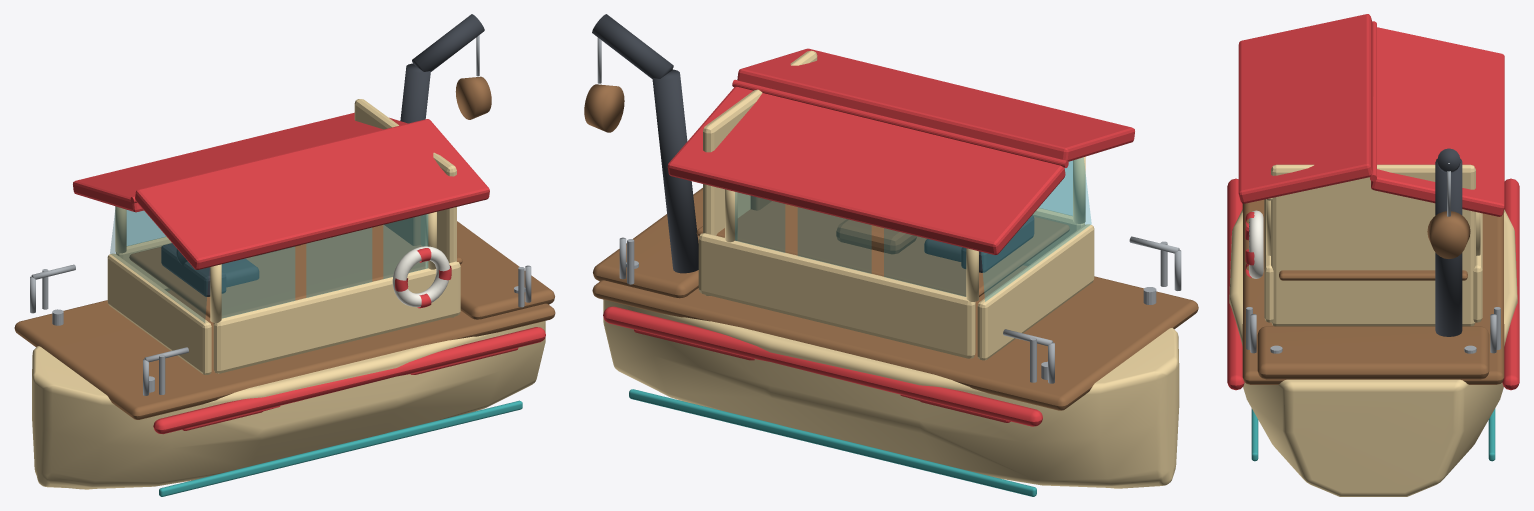
The model's file is boat-b.glb.
The picture shows the model from 3 angles, left to right: view 1: azimuth 30°, elevation 25°; view 2: azimuth 150°, elevation 25°; view 3: azimuth 270°, elevation 25°; orthographic projection. The views are drawn at different scales.
Visible parts, largest first — view 1: Cream faceted-curved displacement hull, Red roof left slope, Flat timber deck, Lower wheelhouse side wall, Visible interior floor, Red roof right slope, Low front wall, Red hull belt, Open timber stern deck, Transparent blue-green cabin side window, Transparent blue-green cabin side window.001, Turquoise waterline (+15 smaller); view 2: Cream faceted-curved displacement hull, Red roof right slope, Flat timber deck, Lower wheelhouse side wall.001, Red roof left slope, Visible interior floor, Low front wall, Red hull belt.001, Dark stern crane column, Turquoise waterline.001, Open timber stern deck, Transparent blue-green cabin side window.003 (+16 smaller); view 3: Cream faceted-curved displacement hull, Rear cream cabin bulkhead, Red roof left slope, Red roof right slope, Open timber stern deck, Flat timber deck, Dark stern crane column, Red hull belt.001, Red hull belt, Visible interior floor, Small hanging ochre cargo bucket, White side life ring (+6 smaller).
Boxes of the visible parts, <box> form: Cream faceted-curved displacement hull: <box>32,321,545,489</box>; Red roof left slope: <box>135,119,489,269</box>; Flat timber deck: <box>14,290,555,419</box>; Lower wheelhouse side wall: <box>213,261,460,373</box>; Visible interior floor: <box>129,225,462,317</box>; Red roof right slope: <box>73,112,407,212</box>; Low front wall: <box>107,253,211,374</box>; Red hull belt: <box>153,327,545,434</box>; Open timber stern deck: <box>457,221,554,319</box>; Transparent blue-green cabin side window: <box>222,246,294,318</box>; Transparent blue-green cabin side window.001: <box>306,228,371,297</box>; Turquoise waterline: <box>159,400,522,496</box>; Cream faceted-curved displacement hull: <box>603,299,1179,488</box>; Red roof right slope: <box>667,86,1065,254</box>; Flat timber deck: <box>592,265,1198,410</box>; Lower wheelhouse side wall.001: <box>698,233,975,358</box>; Red roof left slope: <box>737,48,1134,161</box>; Visible interior floor: <box>696,201,1069,296</box>; Low front wall: <box>977,224,1094,360</box>; Red hull belt.001: <box>603,306,1042,426</box>; Dark stern crane column: <box>652,69,698,273</box>; Turquoise waterline.001: <box>629,389,1036,496</box>; Open timber stern deck: <box>593,188,702,298</box>; Transparent blue-green cabin side window.003: <box>884,228,965,296</box>; Cream faceted-curved displacement hull: <box>1229,209,1517,496</box>; Rear cream cabin bulkhead: <box>1271,164,1475,326</box>; Red roof left slope: <box>1238,14,1372,203</box>; Red roof right slope: <box>1371,27,1504,216</box>; Open timber stern deck: <box>1257,326,1489,379</box>; Flat timber deck: <box>1242,199,1504,384</box>; Dark stern crane column: <box>1435,158,1462,336</box>; Red hull belt.001: <box>1502,178,1519,390</box>; Red hull belt: <box>1227,178,1244,390</box>; Visible interior floor: <box>1279,270,1467,280</box>; Small hanging ochre cargo bucket: <box>1427,211,1470,258</box>; White side life ring: <box>1249,210,1263,278</box>.
Bounding box in the file's own units: 4.37 × 2.89 × 2.17.
